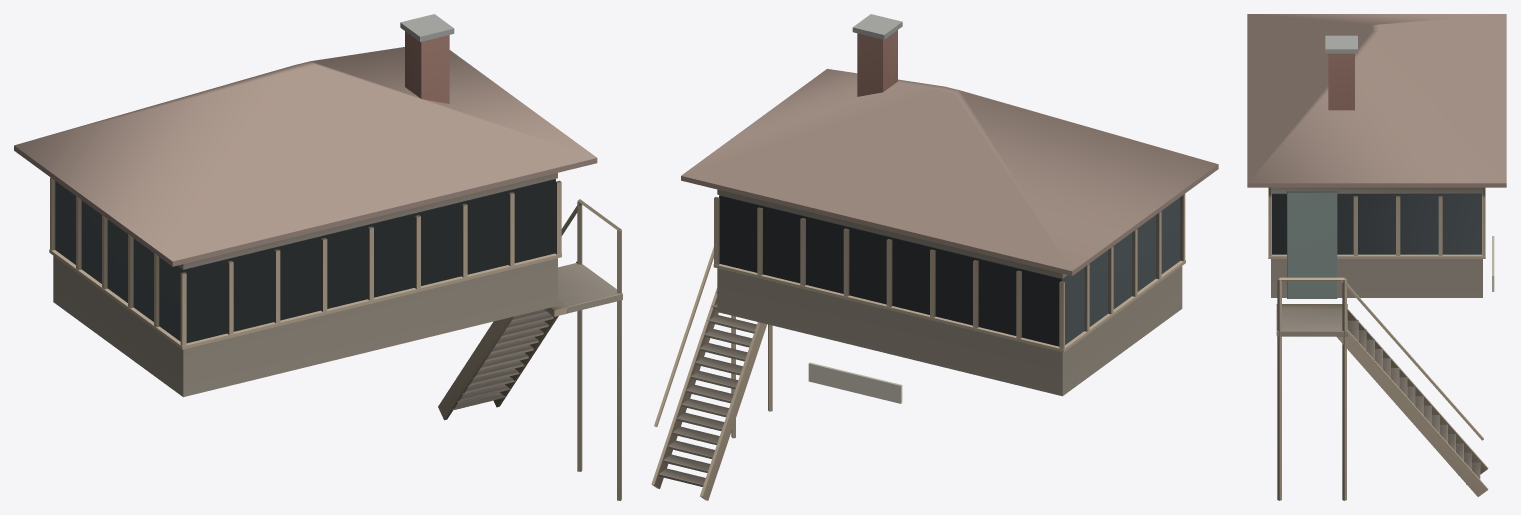
Rendered from signal_box.glb.
The picture shows the model from 3 angles, left to right: view 1: azimuth 30°, elevation 25°; view 2: azimuth 150°, elevation 25°; view 3: azimuth 270°, elevation 25°; orthographic projection. The views are drawn at different scales.
Visible parts, largest first — view 1: static; view 2: static; view 3: static.
Boxes of the visible parts, <box> form: static: <box>14,14,622,500</box>; static: <box>651,14,1218,500</box>; static: <box>1247,14,1506,500</box>.
Bounding box in the file's own units: 7.51 × 7.41 × 4.4.
